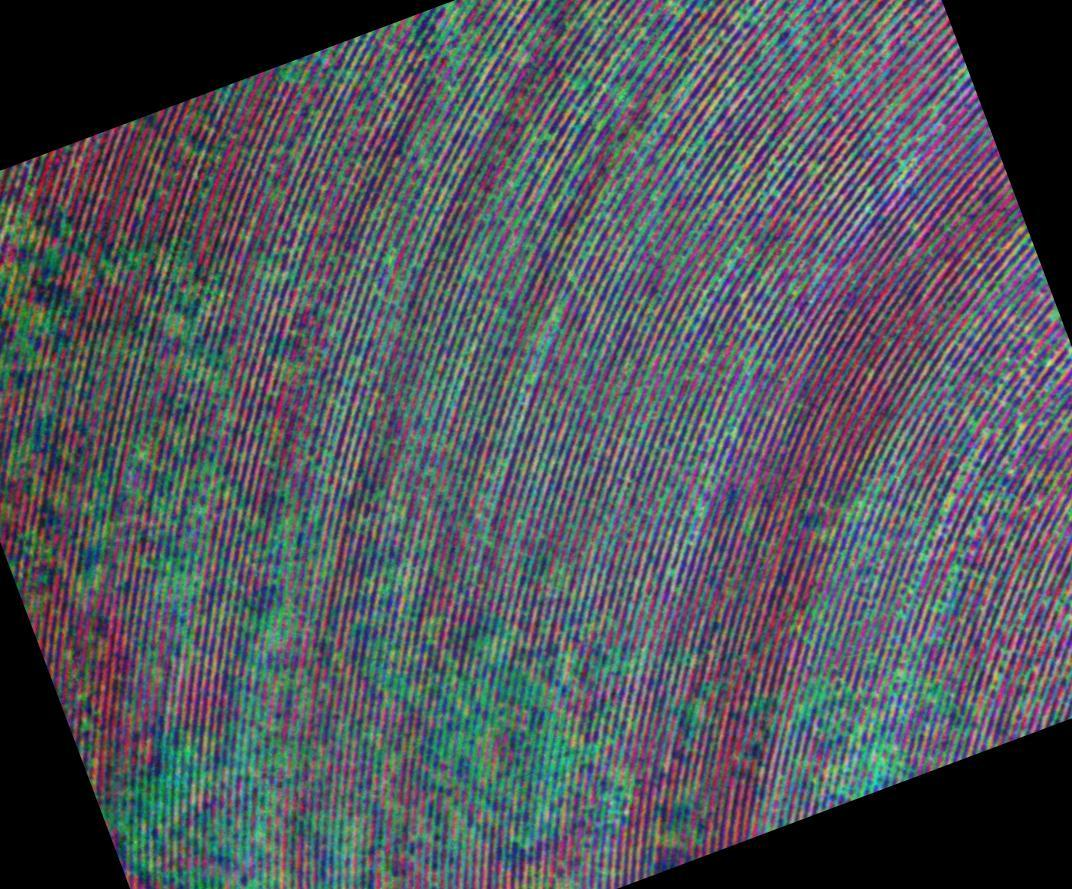dc: (421, 636, 585, 837), (129, 693, 291, 889), (796, 673, 905, 783), (251, 496, 320, 664), (0, 210, 63, 355), (171, 302, 210, 370)
